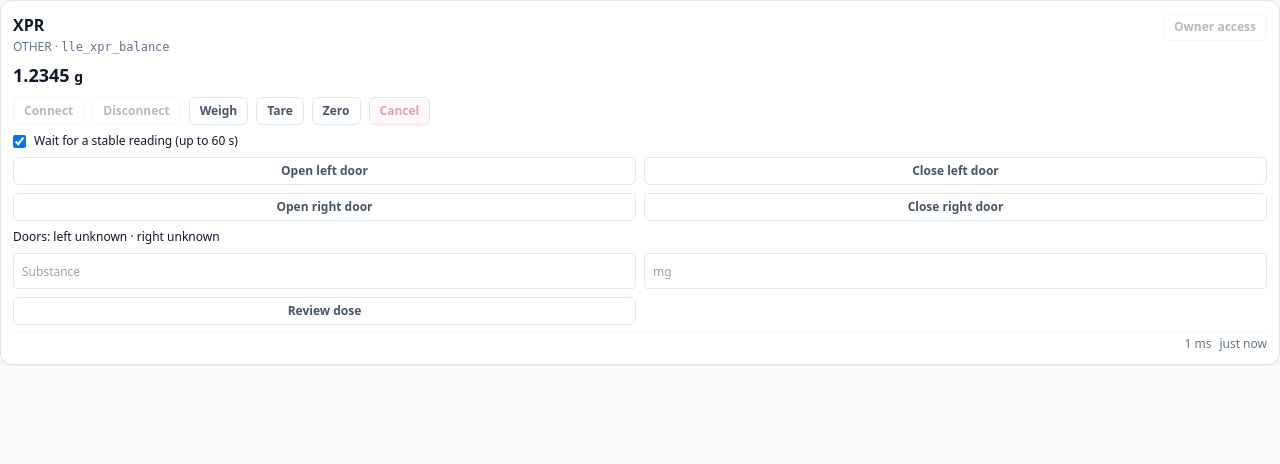
Test: requires owner access and an explicit dose confirmation
Expected: the button "Review dose" is enabled, [13,297,636,325]
Type "NaCl" into the field labelled "Substance".
click(324, 271); type("NaCl")  # box [13,253,636,289]
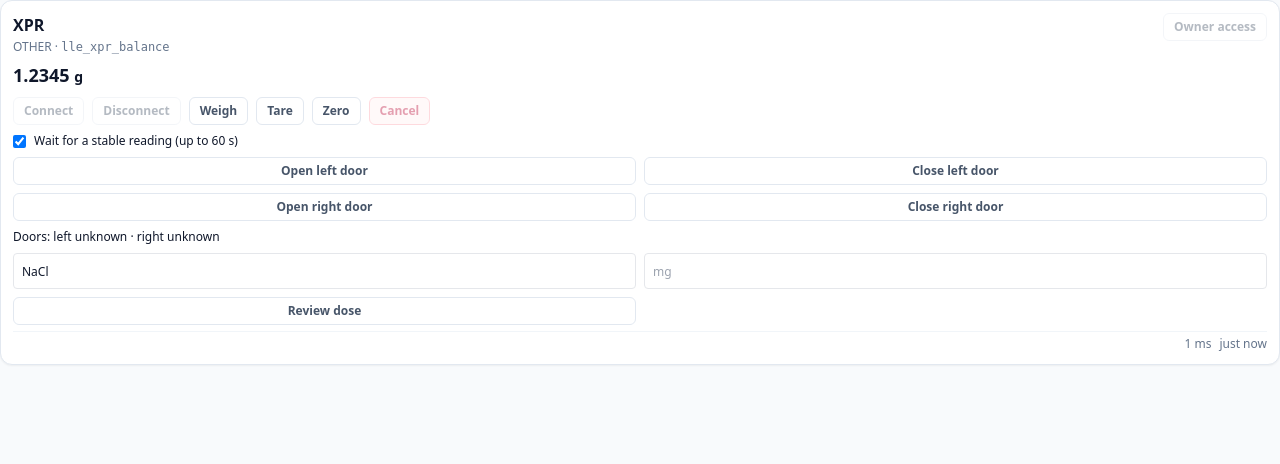
Type "10" into the number field named "Dose amount (mg)".
click(956, 271); type("10")  # box [644,253,1267,289]
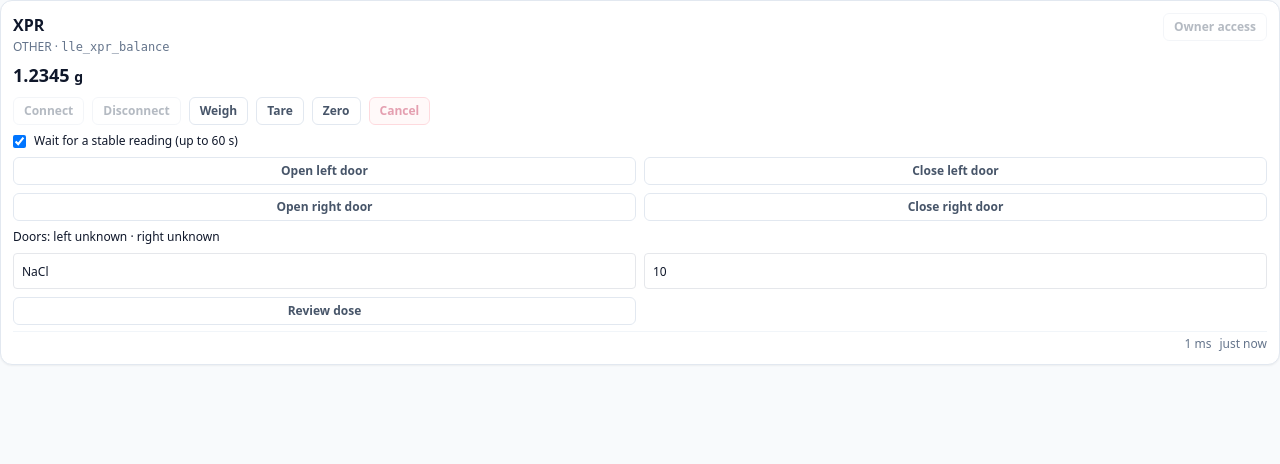
Click the button "Review dose".
click(324, 311)  # box [13,297,636,325]
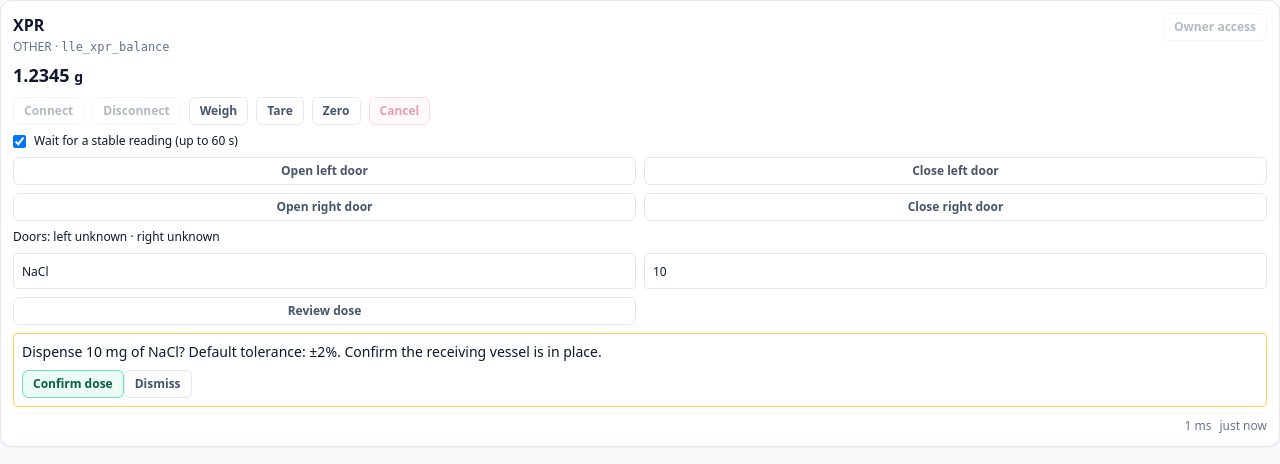
Click the button "Confirm dose".
click(73, 384)  # box [22,370,124,398]
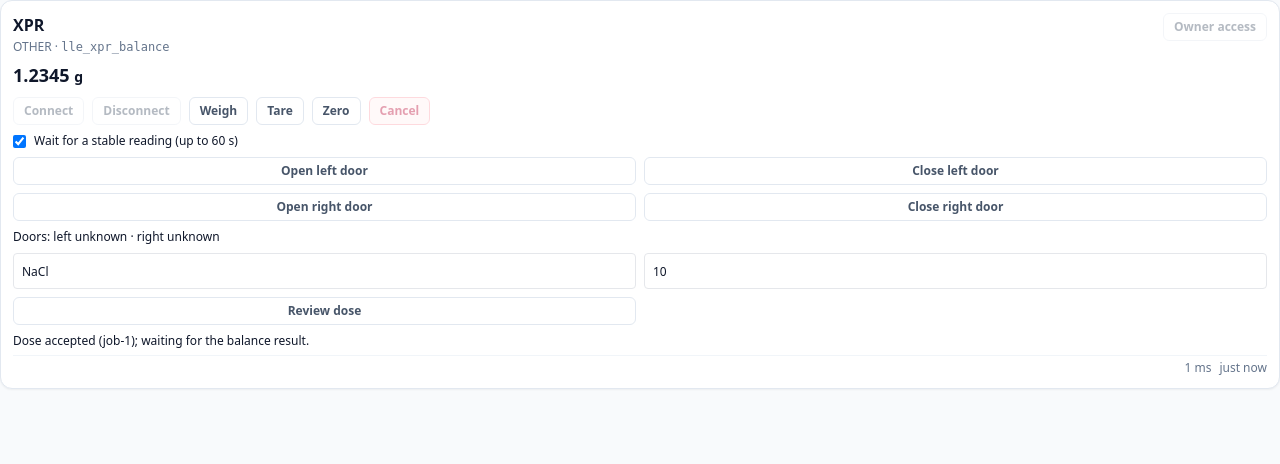
Expected: the text "Dose accepted (job-1); waiting for the balance result." is shown, [13,332,309,349]
